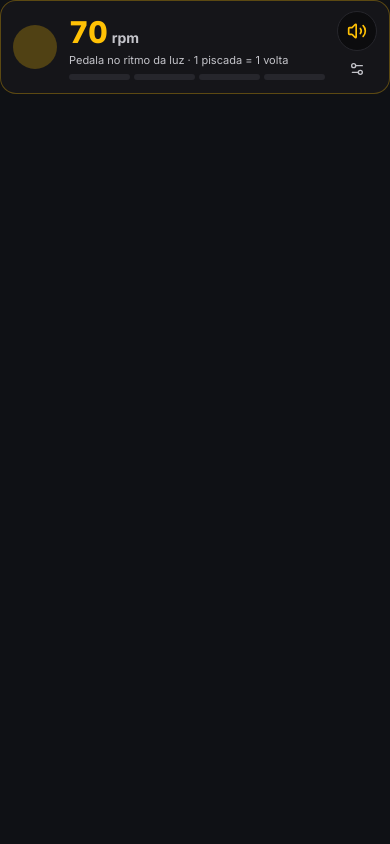
Test case: Faixa de cadência › configuração "Cada perna (2×)" e "Clique" ficam lembradas e dobram as batidas
The width and height of the screenshot is (390, 844).
Click the button named "Configurar cadência".
click(357, 69)  # box [343, 55, 371, 83]
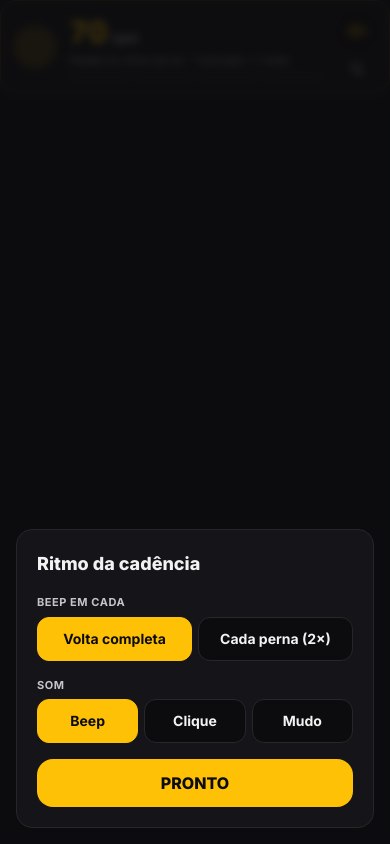
Click the button "Cada perna (2×)".
click(276, 638)  # box [198, 616, 353, 660]
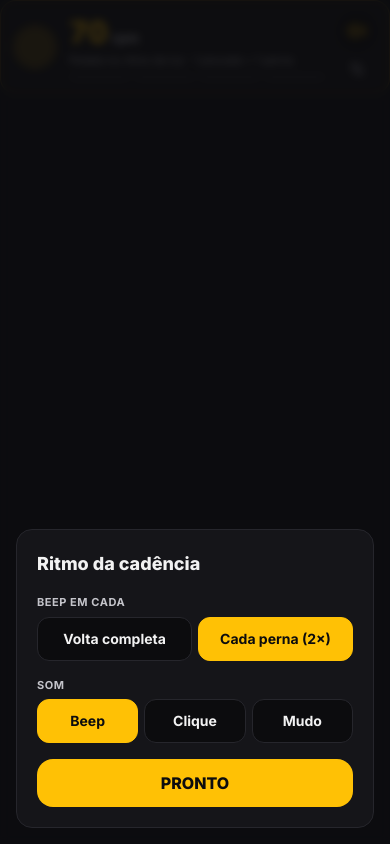
Click the button "Clique".
click(195, 721)  # box [144, 699, 246, 743]
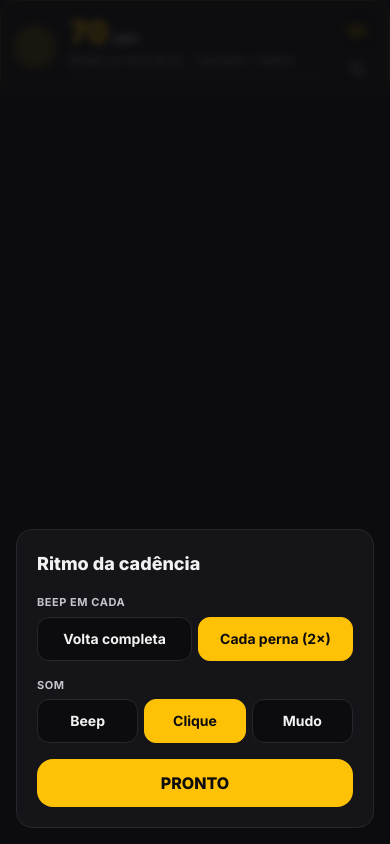
Click the button "Pronto".
click(195, 783)  # box [37, 759, 353, 807]
Wait 60000 ms
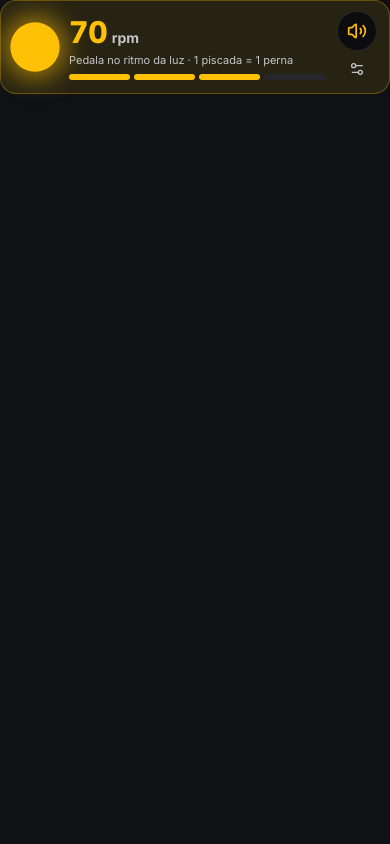
Result: the element with test id "cadence-band" has attribute data-interval-ms="429" at [0, 0, 389, 94]
